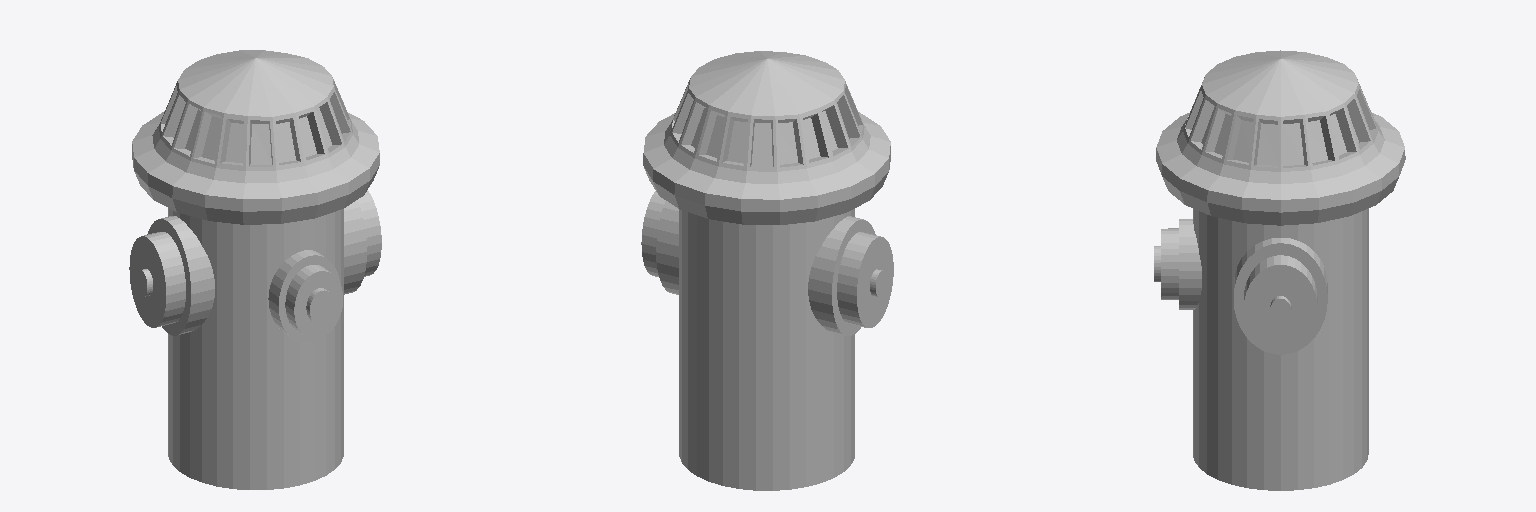
The model's file is Hydrant.obj.
3 renders of one model, left to right at view 1: azimuth 30°, elevation 25°; view 2: azimuth 150°, elevation 25°; view 3: azimuth 270°, elevation 25°, orthographic.
Parts seen in each view (by area): view 1: Cylinder.036_Cylinder.039; view 2: Cylinder.036_Cylinder.039; view 3: Cylinder.036_Cylinder.039.
Boxes of the visible parts, box(x1,y1,x2,y2) form: Cylinder.036_Cylinder.039: box(129, 50, 381, 489); Cylinder.036_Cylinder.039: box(641, 51, 893, 490); Cylinder.036_Cylinder.039: box(1154, 50, 1405, 490).
Bounding box in the file's own units: 0.4628 × 0.7696 × 0.4434.